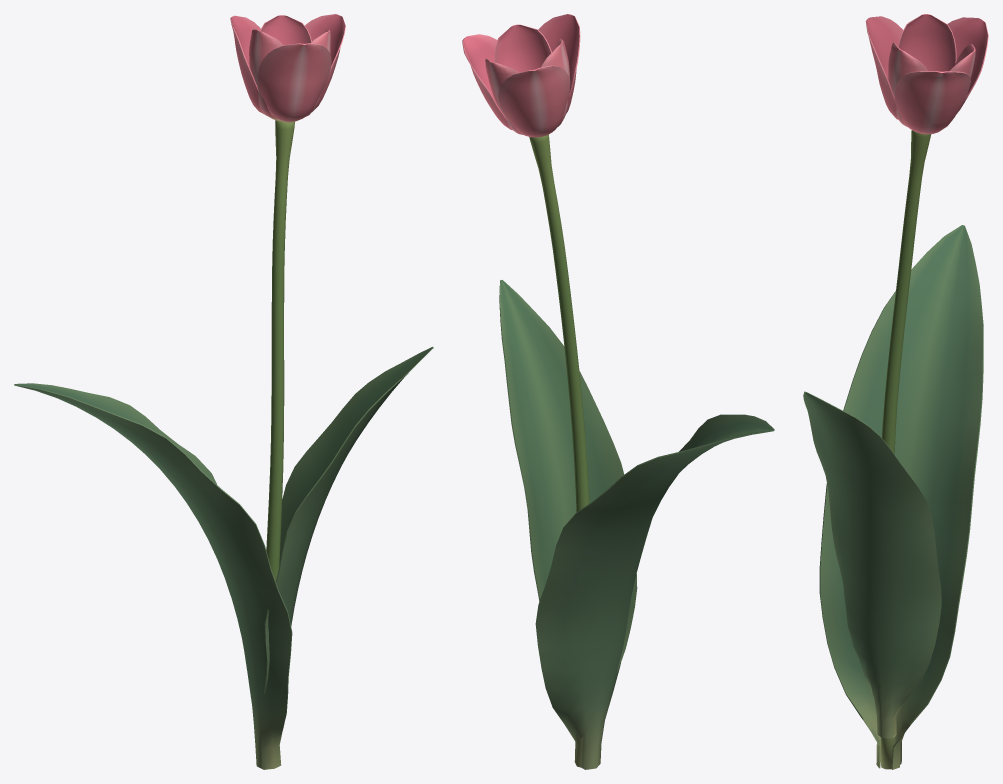
File: open-pink.glb
3 renders of one model, left to right at view 1: azimuth 30°, elevation 25°; view 2: azimuth 150°, elevation 25°; view 3: azimuth 270°, elevation 25°, orthographic. The views are drawn at different scales.
Parts seen in each view (by area): view 1: tulip-open-pink; view 2: tulip-open-pink; view 3: tulip-open-pink.
Boxes of the visible parts, x1,y1,x2,y2 form: tulip-open-pink: (14,14,433,769); tulip-open-pink: (462,14,774,769); tulip-open-pink: (803,14,988,769).
Size of the model in its own units: 0.2111 by 0.4241 by 0.0939.
